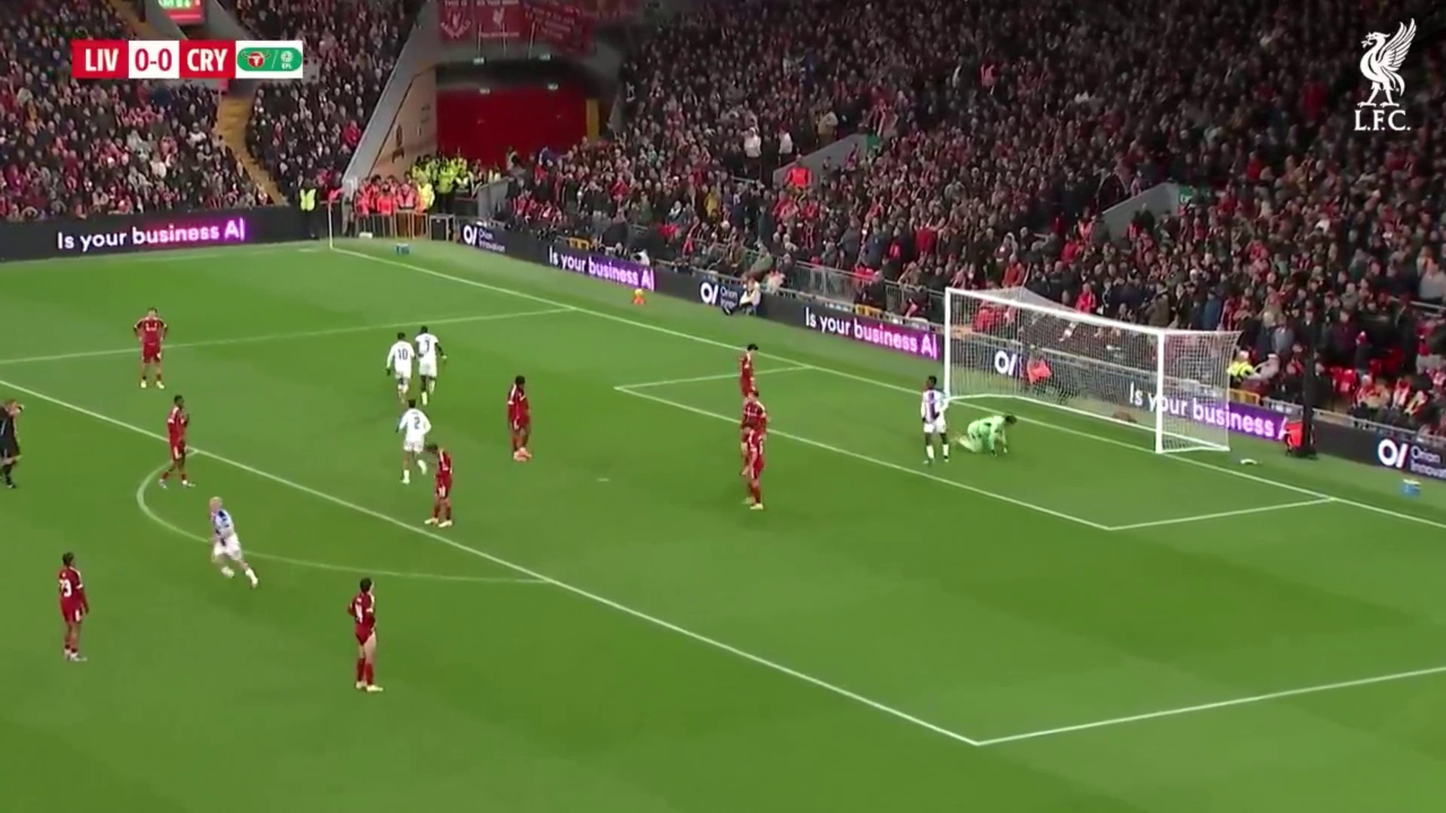player: (734, 342, 769, 511), (208, 497, 259, 586), (55, 550, 91, 664), (347, 577, 380, 693), (919, 374, 950, 465), (133, 310, 167, 390), (398, 404, 431, 483), (426, 442, 455, 528), (164, 397, 191, 486), (506, 376, 533, 463), (413, 326, 442, 404), (0, 398, 22, 493), (386, 334, 415, 395), (1025, 351, 1055, 396)
